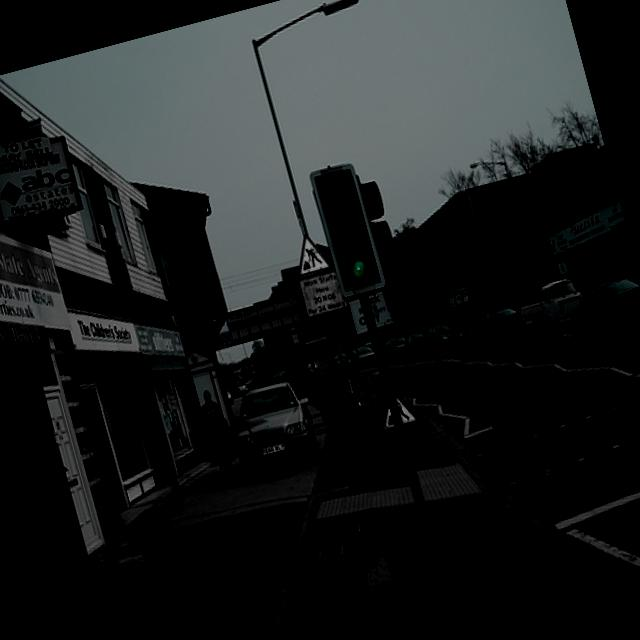Vehicle: (221, 374, 322, 479), (514, 274, 590, 341), (565, 271, 640, 337), (77, 614, 227, 640), (478, 304, 526, 344), (422, 316, 466, 354), (332, 348, 360, 388), (344, 342, 378, 373), (399, 330, 430, 358), (380, 334, 410, 360), (277, 366, 295, 381)
